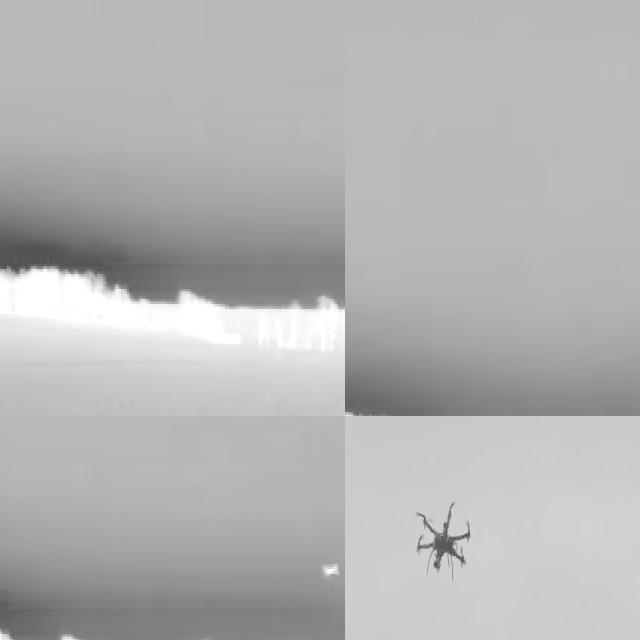1: (311, 555, 345, 592)
drone: (411, 493, 480, 582)
